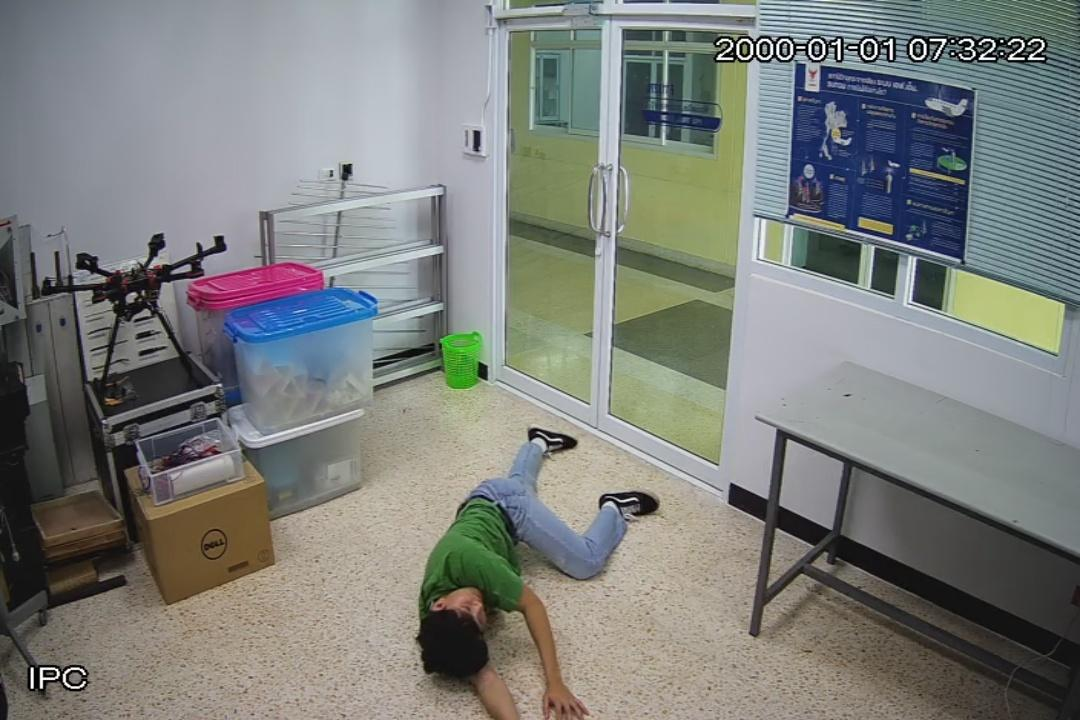fall: (416, 427, 658, 720)
